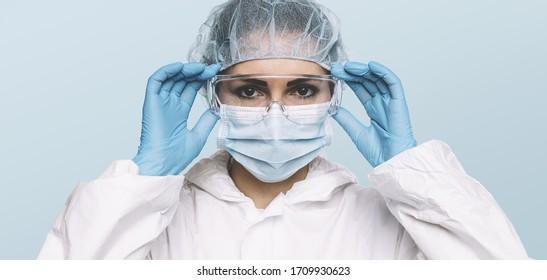gloves: (132, 61, 218, 179), (324, 61, 417, 168)
